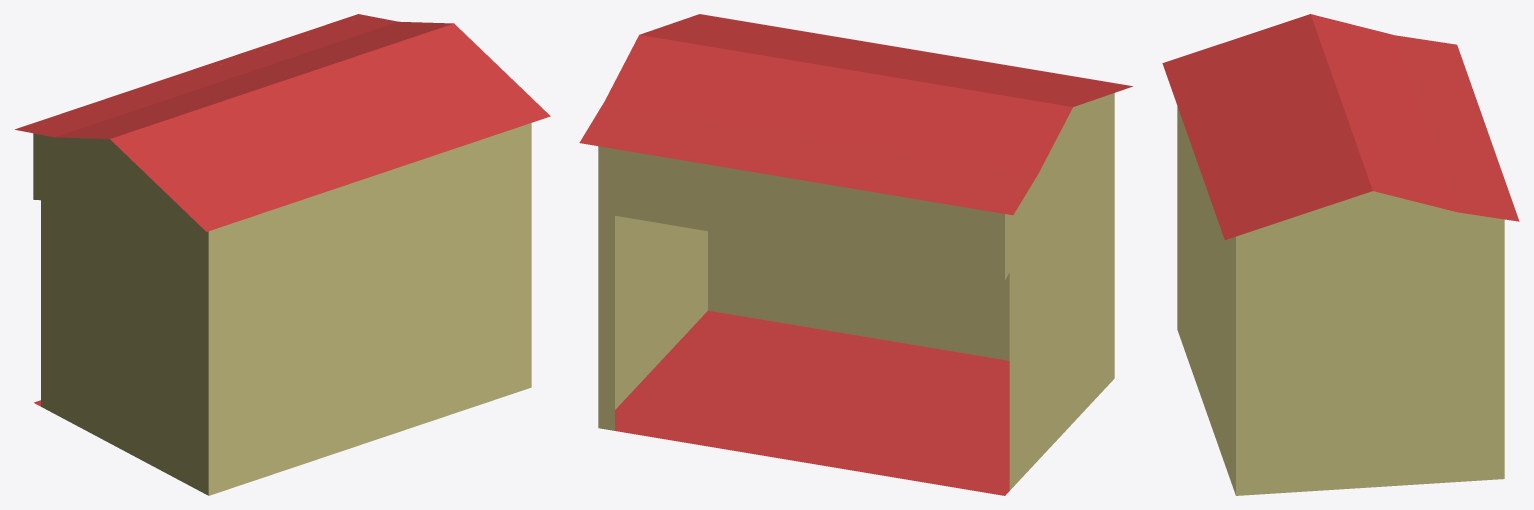
3 renders of one model, left to right at view 1: azimuth 30°, elevation 25°; view 2: azimuth 150°, elevation 25°; view 3: azimuth 270°, elevation 25°, orthographic. The views are drawn at different scales.
Size of the model in its own units: 17.44 by 13.46 by 12.55.
